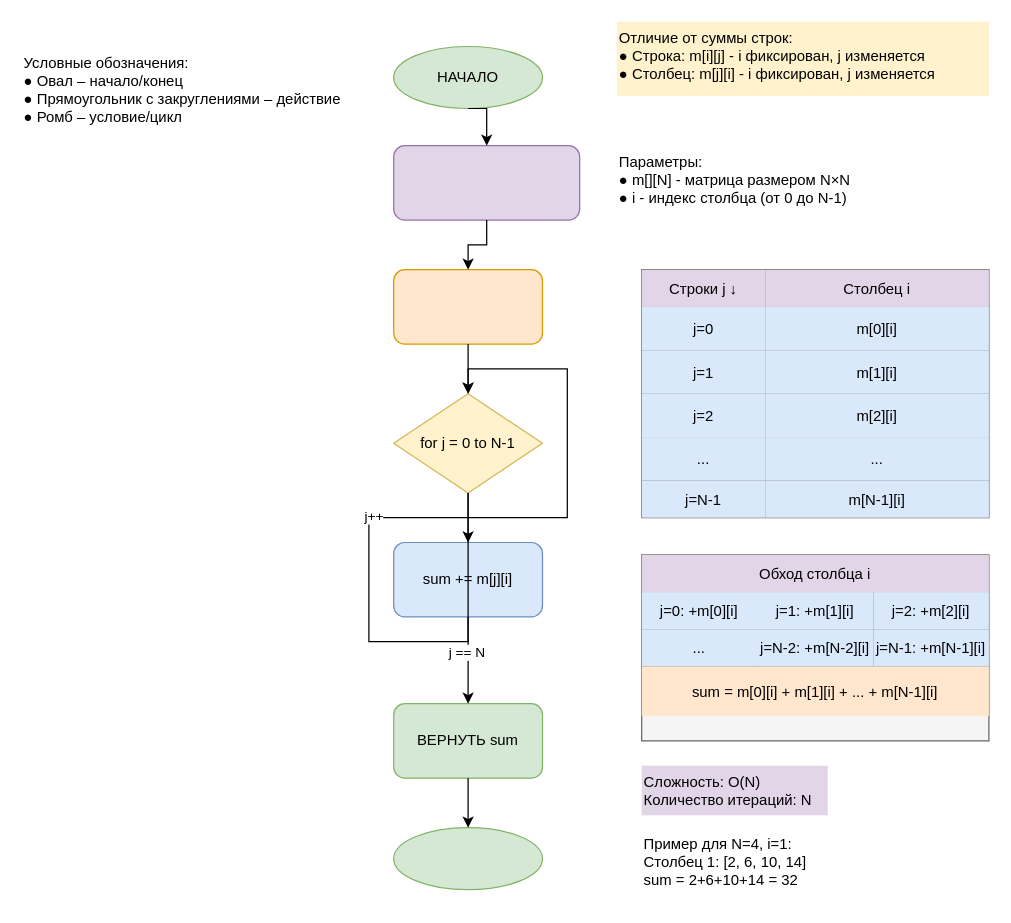
Some shapes in this 1011 by 923 pixel diagram are drawn without their labels. Here are the shapes that lost their labels. From the top down, the centre of each, then its label:
point (486, 182): Вход: матрица m[][N], номер столбца i
point (467, 306): sum = 0
point (467, 858): КОНЕЦ
